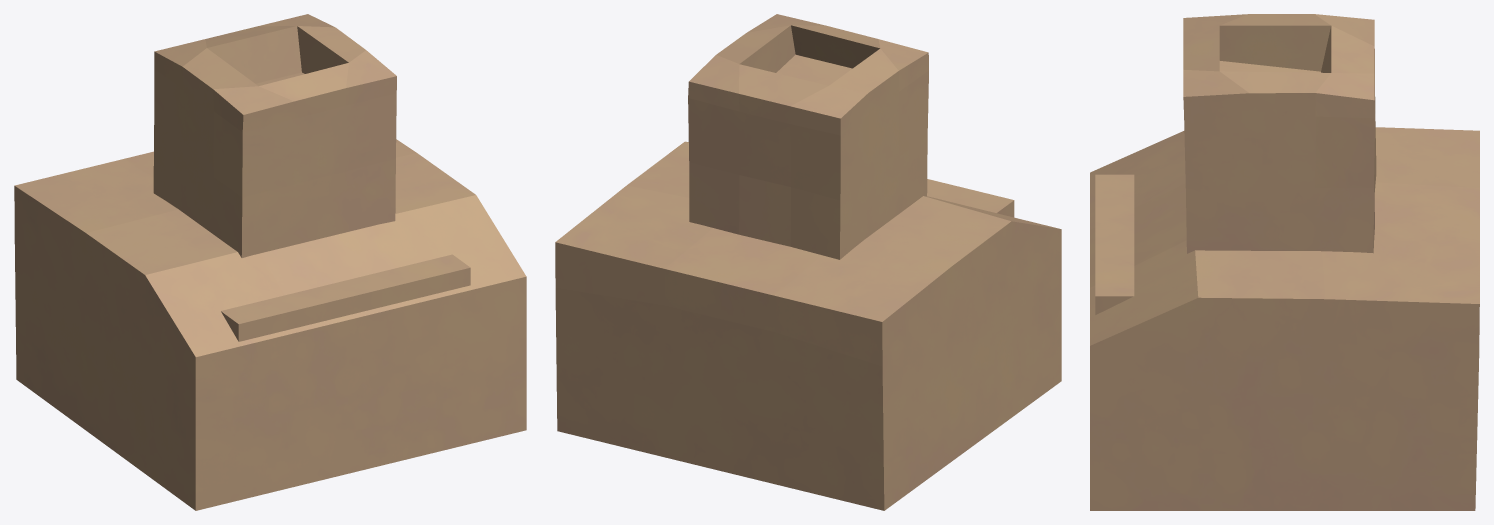
File: stone_torch.fbx
The picture shows the model from 3 angles, left to right: view 1: azimuth 30°, elevation 25°; view 2: azimuth 150°, elevation 25°; view 3: azimuth 270°, elevation 25°; orthographic projection. The views are drawn at different scales.
Parts seen in each view (by area): view 1: Object001; view 2: Object001; view 3: Object001.
Part boxes in pixels (left/top/right/bottom): Object001: left=14, top=14, right=526, bottom=510; Object001: left=555, top=14, right=1061, bottom=510; Object001: left=1090, top=14, right=1479, bottom=510.
Bounding box in the file's own units: 6.85 × 6.97 × 6.51.
